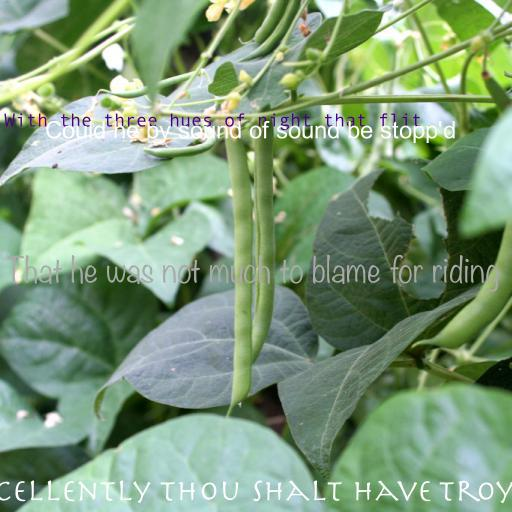Andale Mono: (4, 113, 422, 131)
Arial: (44, 120, 456, 144)
Herculanum: (0, 480, 512, 504)
Noteworthy: (5, 254, 499, 292)
